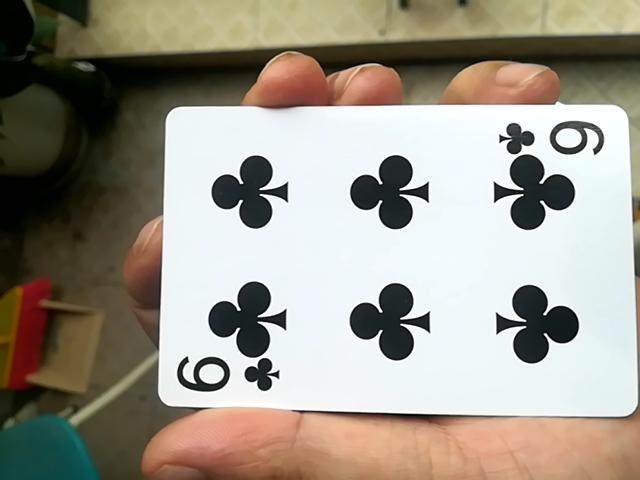mh 6: (151, 102, 633, 432)
